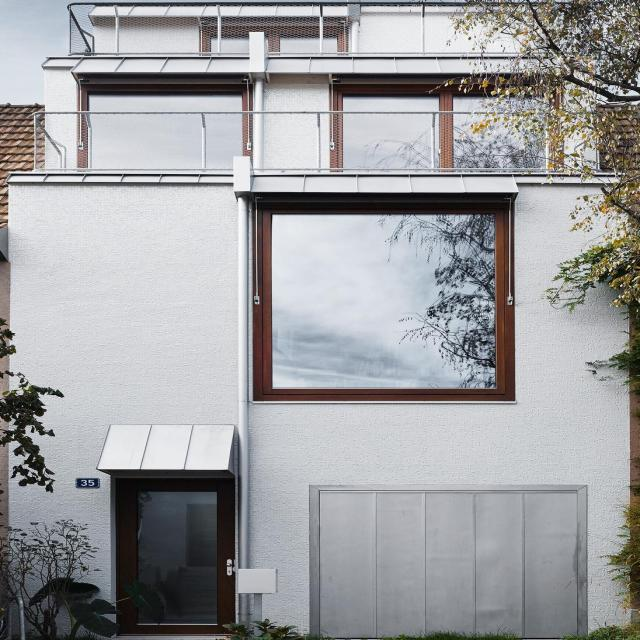Railing: (29, 110, 560, 170), (69, 4, 548, 52)
door: (118, 476, 234, 640)
plant: (431, 0, 639, 326)
wall: (7, 0, 630, 637)
windows: (258, 202, 510, 402), (338, 85, 557, 108), (90, 91, 244, 110)
